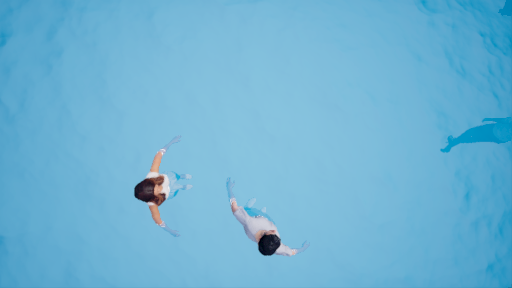person: (224, 176, 311, 265), (130, 138, 198, 231)
